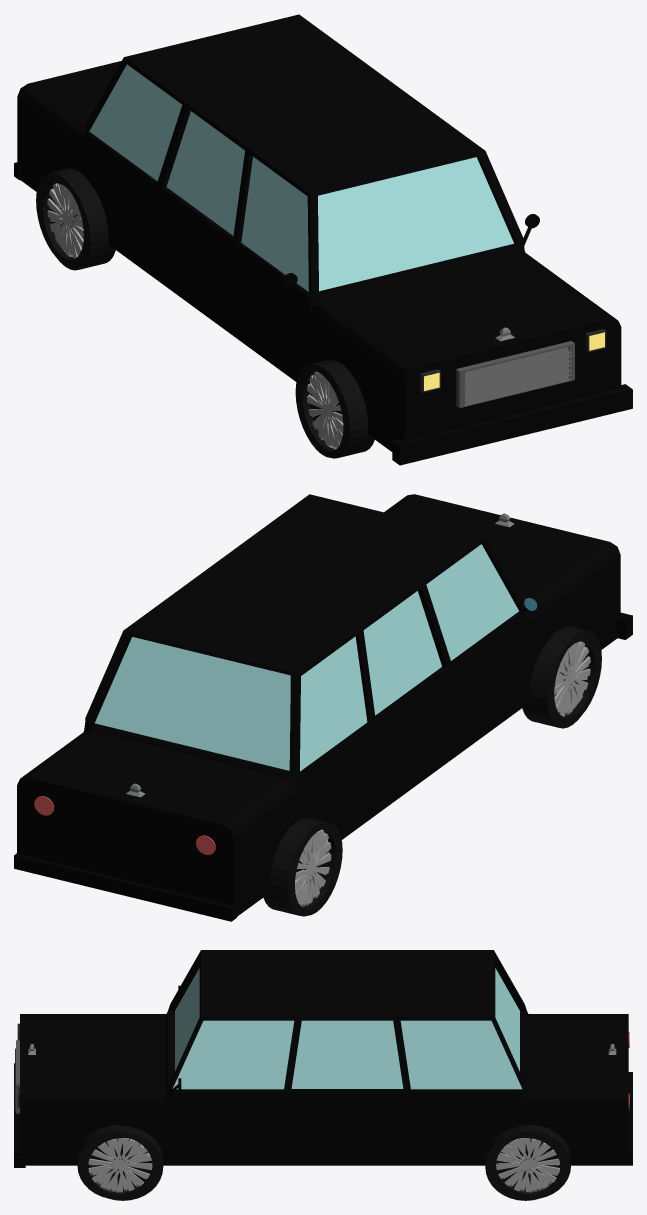
The model's file is Cartoon_Cars_Blend.glb.
3 views of the same model, one above another, from view 1: azimuth 30°, elevation 25°; view 2: azimuth 150°, elevation 25°; view 3: azimuth 270°, elevation 25° (orthographic). The views are drawn at different scales.
Parts seen in each view (by area): view 1: 2, Cylinder.001, Cube.023, Cylinder.002, Plane.003, Cube.021; view 2: 2, Cylinder.001, Cylinder.002, Cube.022, Cylinder.014; view 3: 2, Cylinder.001, Cylinder.002, Cube.022, Cube.023.
Part boxes in pixels (x1=…): 2: x1=17, y1=14, x2=621, y2=451; Cylinder.001: x1=36, y1=168, x2=374, y2=458; Cube.023: x1=392, y1=384, x2=632, y2=465; Cylinder.002: x1=39, y1=179, x2=346, y2=457; Plane.003: x1=456, y1=341, x2=574, y2=407; Cube.021: x1=420, y1=329, x2=606, y2=392; 2: x1=17, y1=494, x2=620, y2=916; Cylinder.001: x1=263, y1=626, x2=601, y2=916; Cylinder.002: x1=291, y1=637, x2=598, y2=915; Cube.022: x1=14, y1=853, x2=236, y2=921; Cylinder.014: x1=34, y1=796, x2=215, y2=854; 2: x1=20, y1=950, x2=628, y2=1165; Cylinder.001: x1=77, y1=1125, x2=570, y2=1199; Cylinder.002: x1=83, y1=1128, x2=565, y2=1200; Cube.022: x1=624, y1=1072, x2=632, y2=1165; Cube.023: x1=14, y1=1063, x2=25, y2=1167.
Size of the model in its own units: 2.73 by 2.19 by 7.29.
